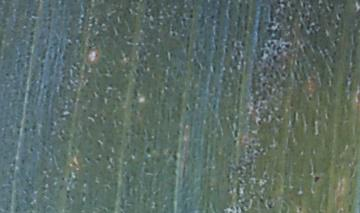tarspot: (279, 42, 292, 51), (311, 175, 321, 184), (184, 103, 190, 113), (306, 94, 312, 103)
